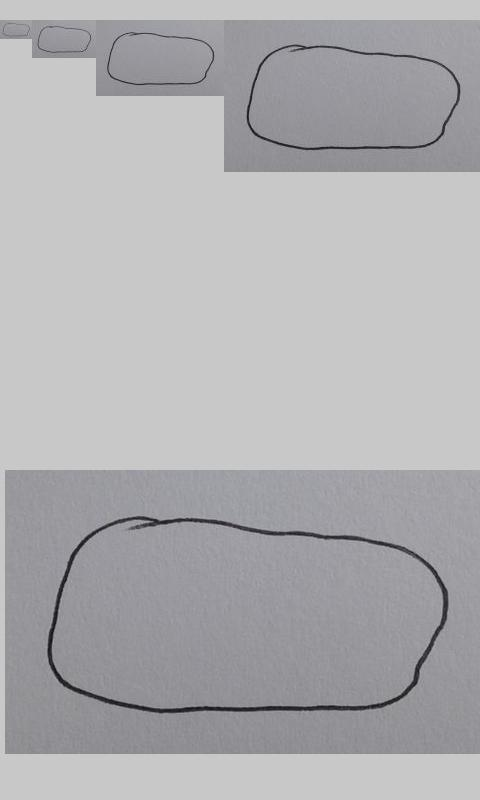chip: (47, 517, 446, 717), (246, 44, 462, 152), (106, 32, 216, 86), (37, 25, 92, 54), (2, 22, 31, 38)
